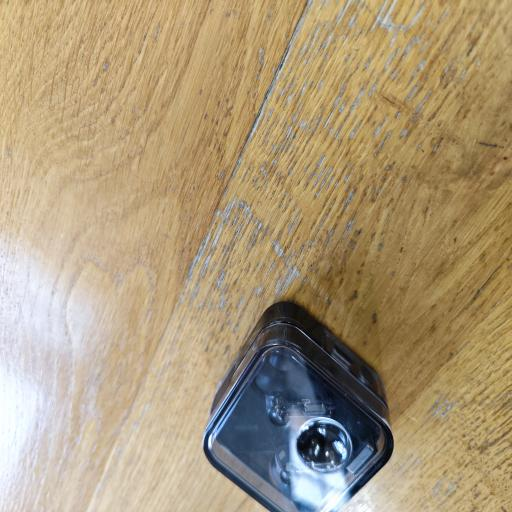Headphones: (198, 298, 398, 512)
